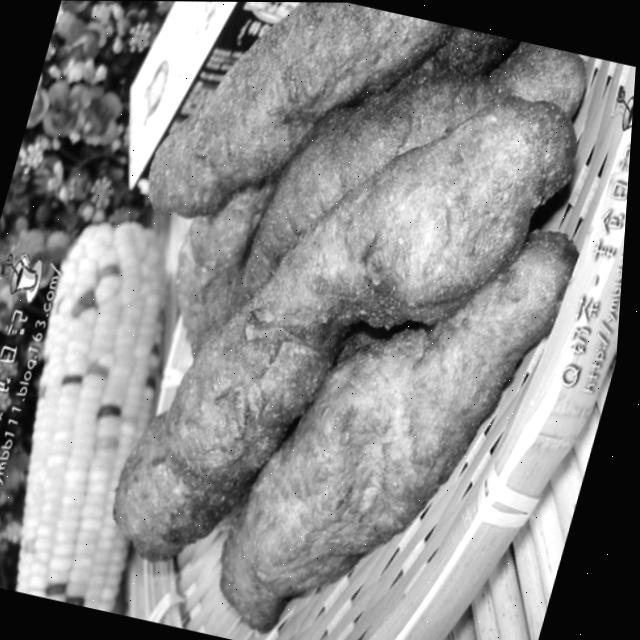炸货点心: (9, 0, 639, 640)
